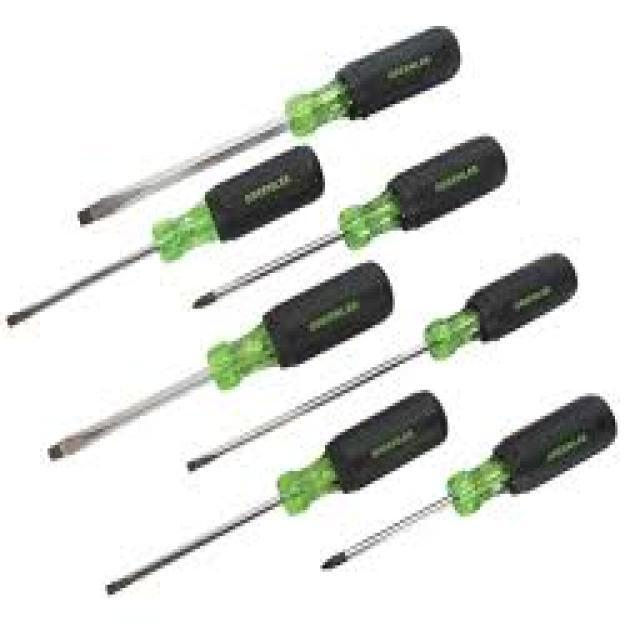screwdriver: (182, 250, 588, 478), (75, 22, 465, 228), (40, 255, 398, 463), (101, 387, 449, 598), (4, 140, 328, 332), (188, 134, 512, 314), (318, 388, 622, 577)
